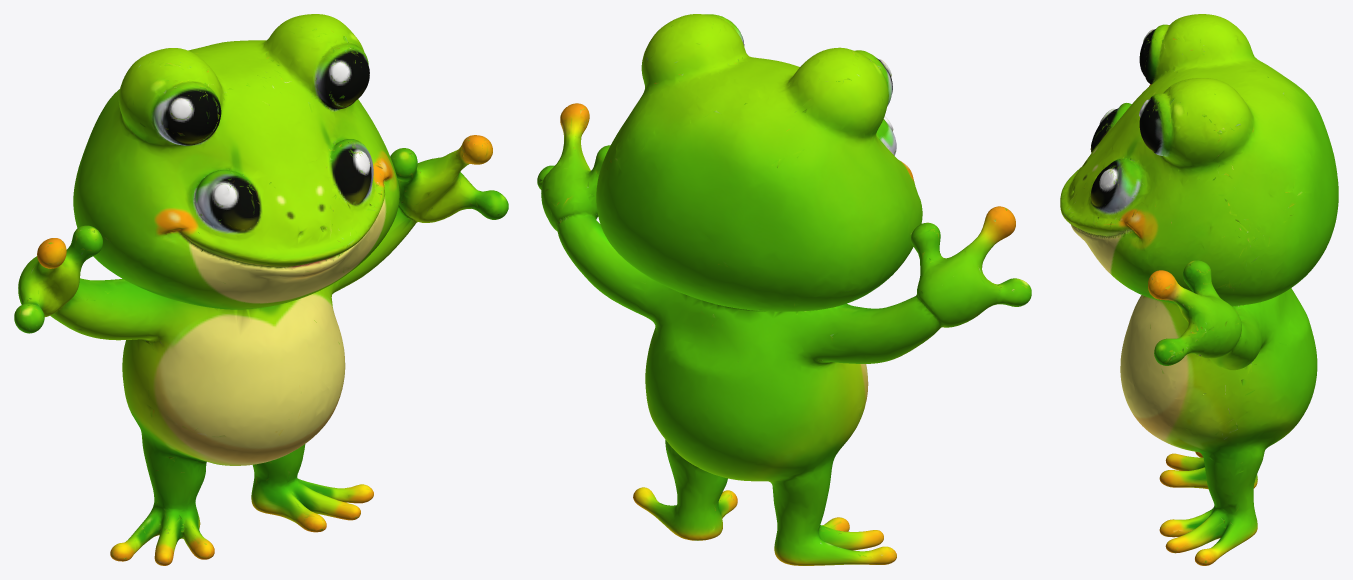
Rendered from dennis.glb.
3 views of the same model, side by side, from view 1: azimuth 30°, elevation 25°; view 2: azimuth 150°, elevation 25°; view 3: azimuth 270°, elevation 25° (orthographic). The views are drawn at different scales.
Visible parts, largest first — view 1: Mesh1.0; view 2: Mesh1.0; view 3: Mesh1.0.
Part boxes in pixels (bbox=[...]): Mesh1.0: bbox=[14, 14, 508, 565]; Mesh1.0: bbox=[537, 14, 1031, 565]; Mesh1.0: bbox=[1060, 14, 1338, 565].
Size of the model in its own units: 1.91 by 1.85 by 1.02.
1 material, 1 textured.
